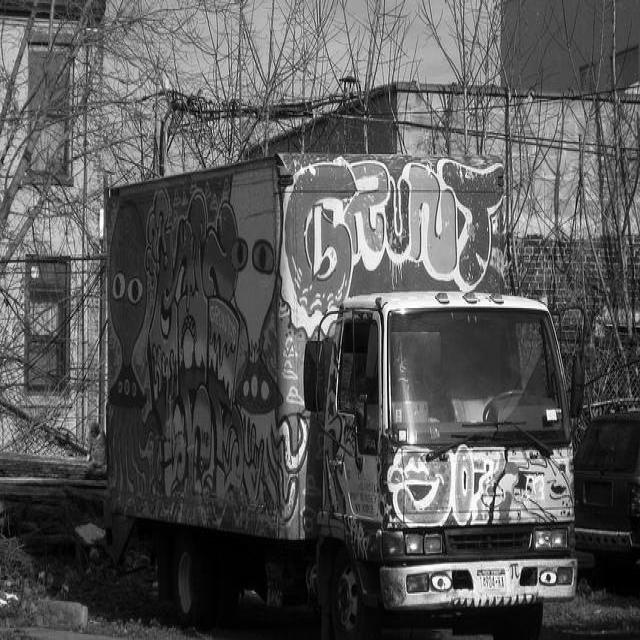vehicle: (107, 155, 585, 631), (572, 414, 640, 582)
